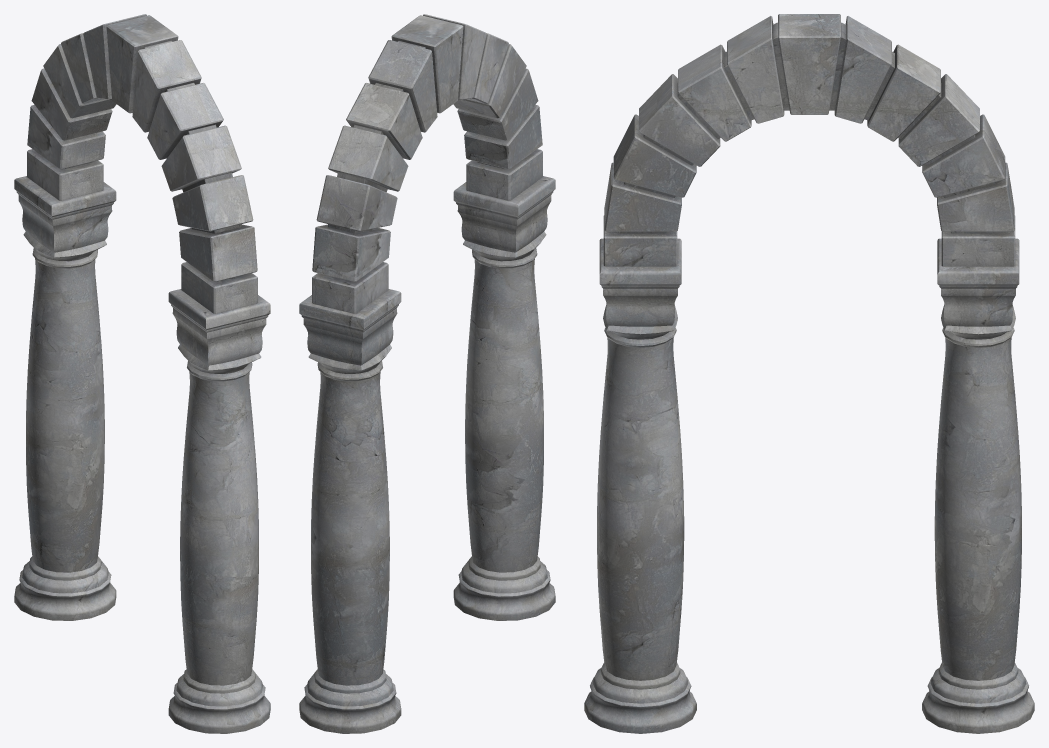
The model's file is monumental_portal.glb.
3 renders of one model, left to right at view 1: azimuth 30°, elevation 25°; view 2: azimuth 150°, elevation 25°; view 3: azimuth 270°, elevation 25°, orthographic. The views are drawn at different scales.
Parts seen in each view (by area): view 1: Torbogen_0; view 2: Torbogen_0; view 3: Torbogen_0.
Boxes of the visible parts, x1,y1,x2,y2 form: Torbogen_0: (14, 14, 270, 733); Torbogen_0: (299, 14, 555, 733); Torbogen_0: (584, 14, 1034, 733).
Bounding box in the file's own units: 0.535 × 3.59 × 2.14.
1 material, 1 textured.
